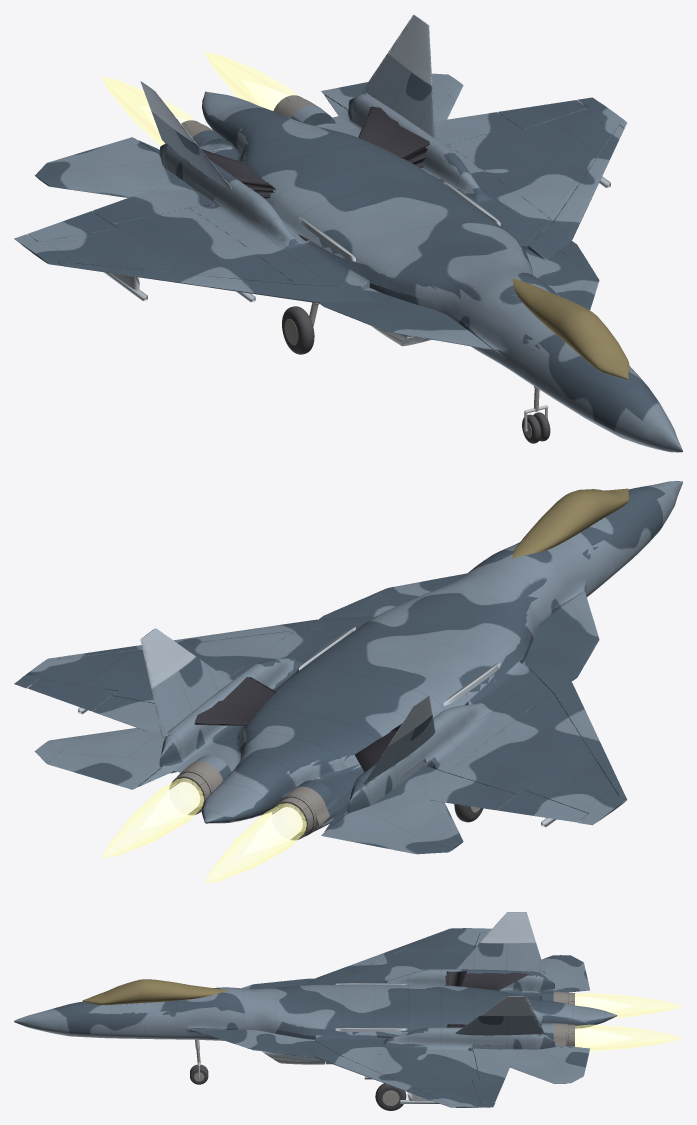
3 views of the same model, one above another, from view 1: azimuth 30°, elevation 25°; view 2: azimuth 150°, elevation 25°; view 3: azimuth 270°, elevation 25° (orthographic). The views are drawn at different scales.
Visible parts, largest first — view 1: fsim:section:centre, fsim:section:tail, fsim:section:right-wing, fsim:section:nose, fsim:section:left-wing, fsim:lef@-5,25 (×2), fsim:lef@-2,30 (×2), fsim:elevator+aileron:-0.3@-25,25, fsim:rudder+speedbrake:0.349066, fsim:aileron+flaps:-1+speedbrake:0.349066@-25,25, fsim:afterburner:0, fsim:rudder+speedbrake:-0.349066 (+7 smaller); view 2: fsim:section:tail, fsim:section:centre, fsim:section:right-wing, fsim:section:nose, fsim:section:left-wing, fsim:elevator+aileron:-0.3@-25,25, fsim:lef@-5,25 (×2), fsim:elevator+aileron:0.3@-25,25, fsim:rudder+speedbrake:0.349066, fsim:lef@-2,30 (×2), fsim:afterburner:0, fsim:afterburner:1 (+5 smaller); view 3: fsim:section:centre, fsim:section:tail, fsim:section:nose, fsim:section:left-wing, fsim:section:right-wing, fsim:rudder+speedbrake:-0.349066, fsim:elevator+aileron:0.3@-25,25, fsim:rudder+speedbrake:0.349066, fsim:lef@-2,30 (×2), fsim:lef@-5,25 (×2), fsim:afterburner:0, fsim:afterburner:1 (+5 smaller).
Part boxes in pixels (x1,y1,x2,y2): fsim:section:centre: (278, 166, 558, 349); fsim:section:tail: (138, 91, 437, 216); fsim:section:right-wing: (14, 177, 365, 288); fsim:section:nose: (475, 279, 682, 452); fsim:section:left-wing: (421, 97, 626, 249); fsim:lef@-5,25 (×2): (318, 240, 599, 349); fsim:lef@-2,30 (×2): (58, 125, 624, 303); fsim:elevator+aileron:-0.3@-25,25: (35, 137, 193, 197); fsim:rudder+speedbrake:0.349066: (363, 15, 435, 138); fsim:aileron+flaps:-1+speedbrake:0.349066@-25,25: (92, 189, 214, 224); fsim:afterburner:0: (204, 52, 297, 110); fsim:rudder+speedbrake:-0.349066: (140, 81, 231, 189); fsim:section:tail: (137, 667, 443, 834); fsim:section:centre: (287, 540, 569, 714); fsim:section:right-wing: (422, 664, 627, 825); fsim:section:nose: (495, 481, 682, 600); fsim:section:left-wing: (14, 625, 361, 703); fsim:elevator+aileron:-0.3@-25,25: (321, 782, 463, 854); fsim:lef@-5,25 (×2): (319, 573, 599, 681); fsim:elevator+aileron:0.3@-25,25: (34, 728, 167, 789); fsim:rudder+speedbrake:0.349066: (140, 628, 231, 735); fsim:lef@-2,30 (×2): (58, 615, 624, 796); fsim:afterburner:0: (102, 778, 203, 858); fsim:afterburner:1: (204, 803, 306, 883); fsim:section:centre: (203, 984, 436, 1064); fsim:section:tail: (403, 969, 617, 1050); fsim:section:nose: (14, 979, 225, 1040); fsim:section:left-wing: (315, 1027, 494, 1107); fsim:section:right-wing: (323, 928, 491, 985); fsim:rudder+speedbrake:-0.349066: (456, 912, 544, 971); fsim:elevator+aileron:0.3@-25,25: (470, 1047, 589, 1083); fsim:rudder+speedbrake:0.349066: (455, 996, 544, 1035); fsim:lef@-2,30 (×2): (293, 931, 447, 1104); fsim:lef@-5,25 (×2): (196, 978, 314, 1057); fsim:afterburner:0: (575, 1024, 682, 1051); fsim:afterburner:1: (575, 993, 682, 1018).
Size of the model in its own units: 14.1 by 4.78 by 22.33.
14 materials, 1 textured.
